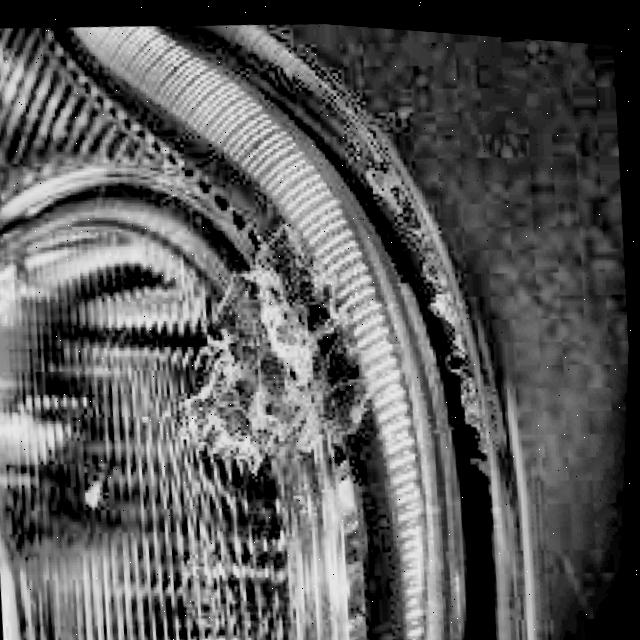head_lamp: (0, 224, 345, 470)
